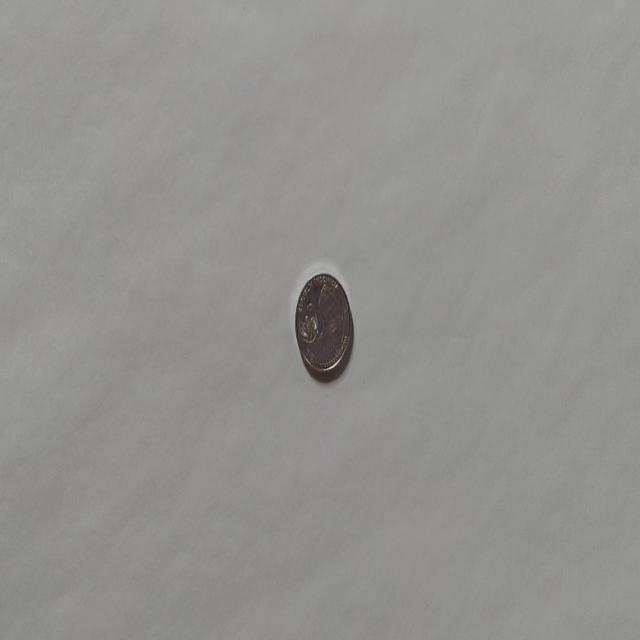dua ratus rupiah: (294, 270, 353, 379)
